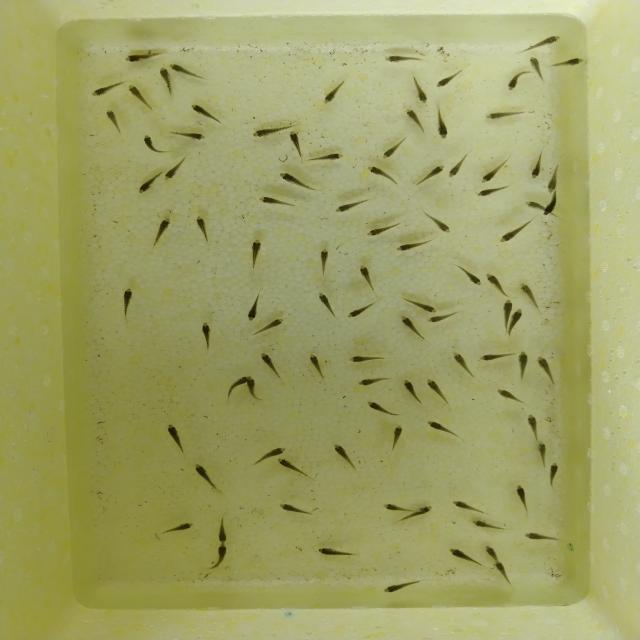fingerling: (272, 168, 323, 194), (114, 280, 143, 323), (189, 459, 223, 495), (240, 233, 273, 270), (494, 220, 536, 248), (327, 438, 359, 474), (416, 208, 456, 236), (190, 210, 219, 248), (423, 417, 465, 443), (189, 100, 229, 127), (441, 542, 482, 568), (412, 161, 446, 192), (273, 500, 320, 522), (148, 214, 179, 247), (253, 348, 286, 379), (477, 155, 512, 184), (354, 260, 382, 296), (362, 398, 404, 422), (449, 346, 476, 383), (320, 78, 353, 107), (489, 384, 530, 407), (124, 83, 154, 114), (432, 104, 455, 144), (255, 194, 306, 212), (162, 421, 189, 455), (444, 497, 492, 516), (348, 370, 391, 391), (366, 162, 402, 187), (522, 149, 550, 181), (516, 276, 544, 308), (423, 375, 451, 407), (156, 518, 198, 539), (376, 578, 425, 596), (392, 236, 438, 255), (395, 313, 425, 342), (402, 105, 429, 137), (482, 106, 530, 124), (303, 349, 330, 381), (534, 352, 558, 388), (162, 154, 190, 184), (195, 317, 217, 355), (274, 457, 312, 479), (312, 544, 361, 561), (284, 129, 310, 161), (133, 169, 162, 197), (483, 270, 512, 298), (445, 150, 472, 180), (386, 422, 412, 453), (137, 133, 172, 156), (490, 559, 517, 588), (342, 350, 390, 366), (100, 104, 125, 134), (398, 376, 423, 406), (168, 126, 212, 143), (520, 32, 564, 49), (314, 287, 338, 318), (513, 346, 532, 385), (433, 69, 468, 90), (454, 264, 482, 290), (363, 220, 403, 238), (340, 302, 376, 322), (465, 518, 510, 534), (243, 289, 263, 324), (250, 123, 288, 141), (331, 198, 369, 216), (476, 349, 514, 367), (309, 148, 349, 165), (314, 244, 334, 278), (398, 296, 438, 313), (518, 528, 558, 545), (511, 481, 531, 515), (382, 51, 434, 64), (380, 136, 407, 161), (526, 54, 549, 83), (542, 462, 564, 492), (408, 76, 432, 103), (260, 314, 287, 338), (90, 79, 124, 98), (474, 182, 509, 200), (522, 411, 543, 441), (544, 164, 565, 193), (156, 66, 174, 97), (504, 69, 526, 94), (552, 54, 586, 70), (212, 542, 230, 572), (119, 51, 158, 64), (212, 516, 230, 542), (379, 502, 413, 515), (534, 439, 549, 468), (426, 313, 456, 327), (412, 503, 438, 518), (518, 197, 542, 210), (484, 544, 503, 560), (541, 201, 558, 217), (500, 298, 516, 313), (268, 444, 287, 456), (512, 306, 524, 324), (168, 63, 190, 72), (230, 375, 248, 386), (247, 378, 255, 398)
